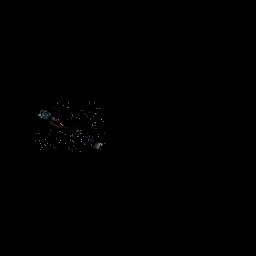boat: (33, 100, 105, 154)
